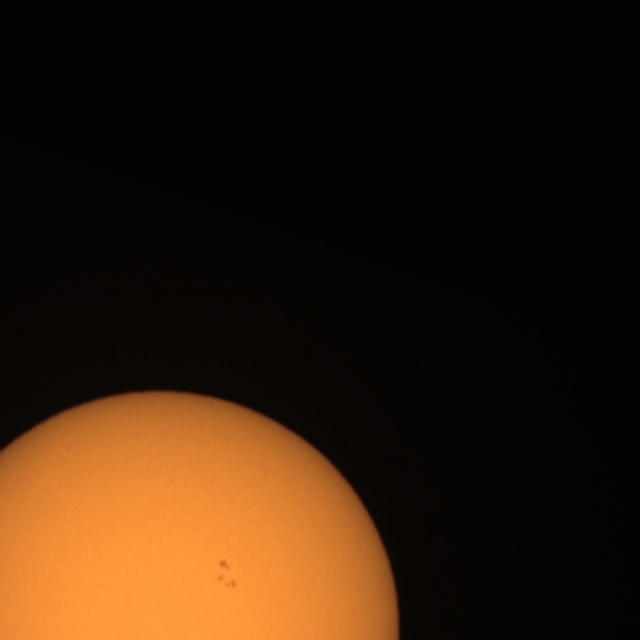sunspot: (214, 558, 237, 592)
